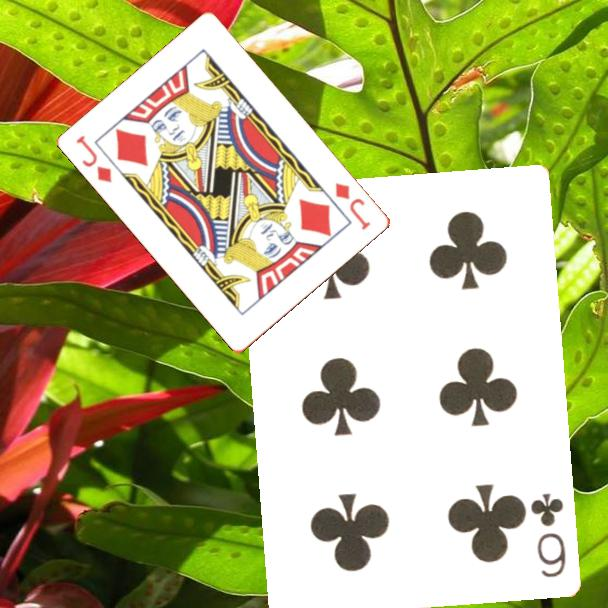c06: (527, 489, 568, 580)
d11: (332, 179, 374, 233), (73, 132, 115, 186)
